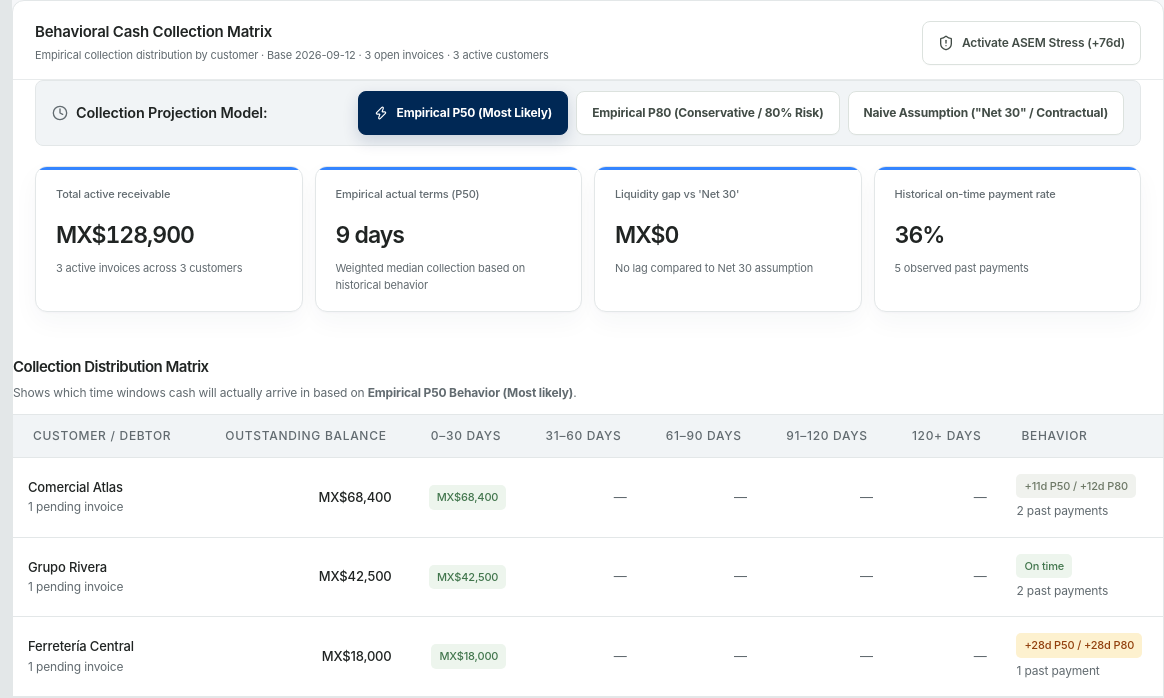
Test: BehavioralCollectionMatrix component › activates ASEM stress toggle (+76 days) and reveals the PyME risk banner
The width and height of the screenshot is (1164, 698).
# Toggle ON
Step 1. Click the button "Activate ASEM Stress (+76d)" → x=1032, y=43, box [922,21,1141,65]
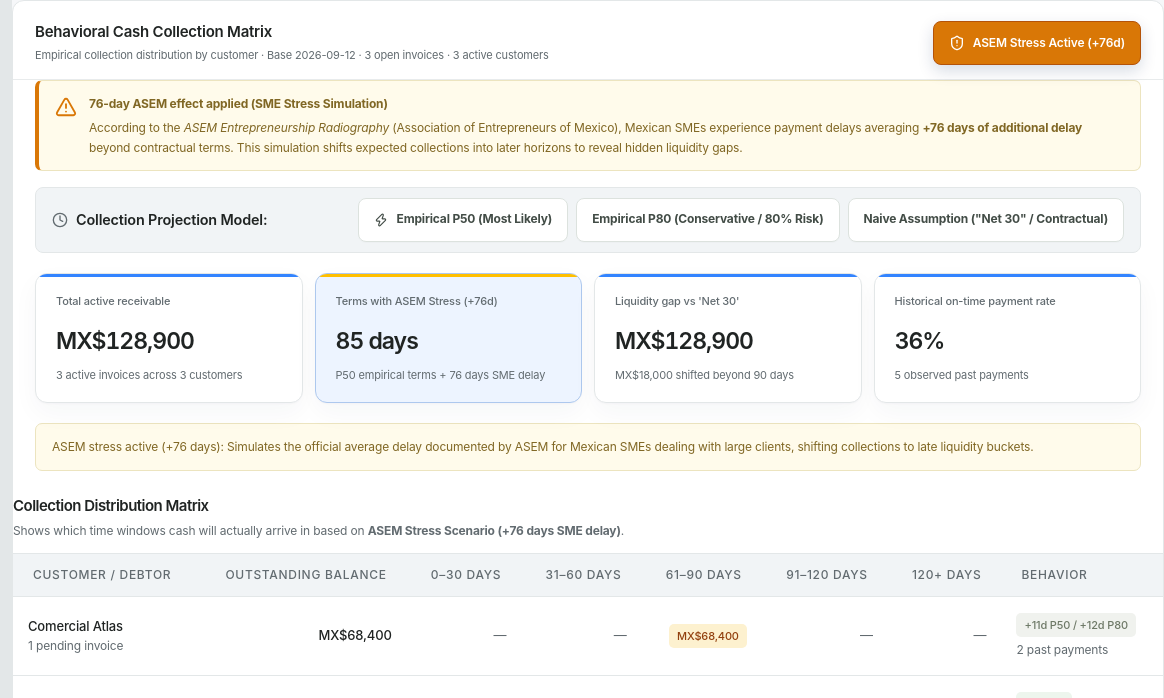
expect the text "76-day ASEM effect applied (SME Stress Simulation)" is shown: met, box [89,96,388,111]
expect the button "ASEM Stress Active (+76d)" is shown: met
expect the text "Terms with ASEM Stress (+76d)" is shown: met, box [336,293,498,309]
# Toggle OFF
Step 2. Click the button "ASEM Stress Active (+76d)" → x=1037, y=43, box [933,21,1141,65]
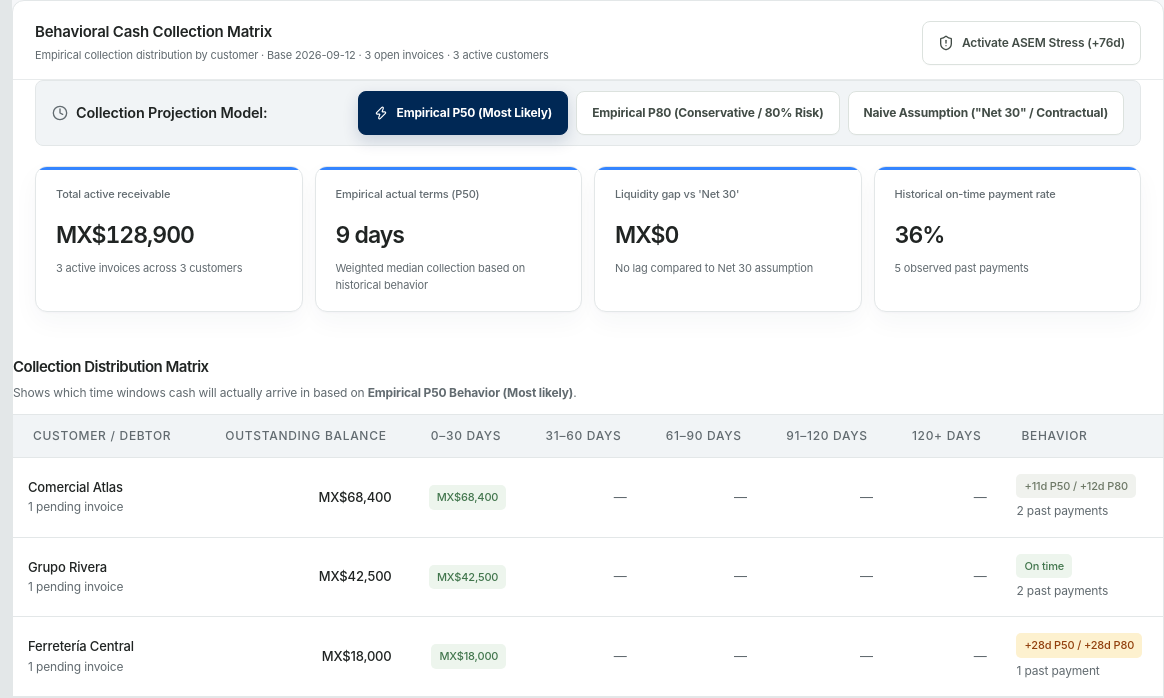
expect the text "76-day ASEM effect applied" is gone: met
